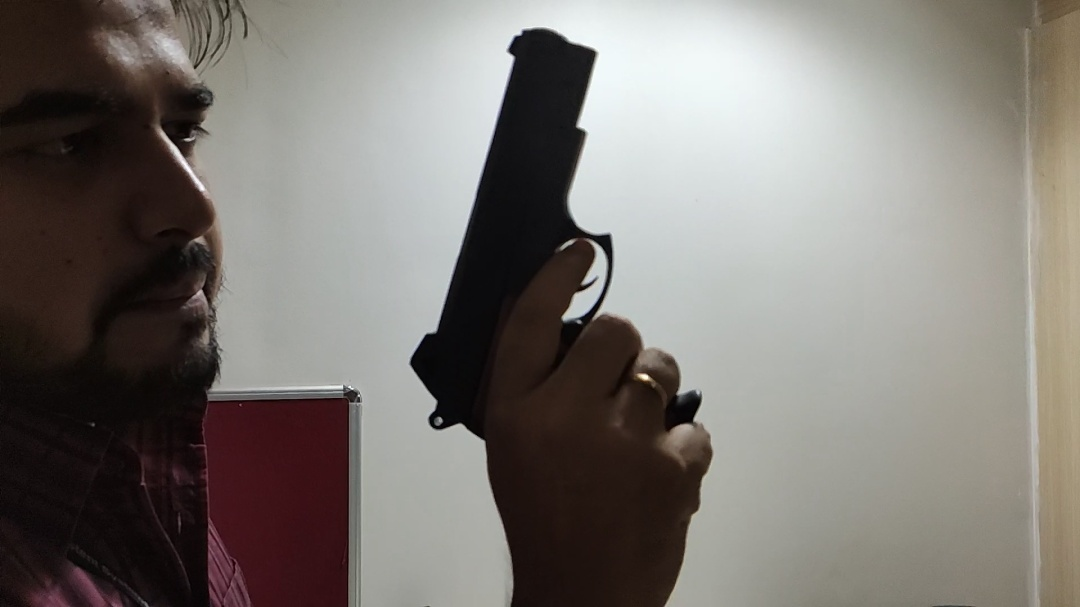gun: (406, 23, 704, 452)
